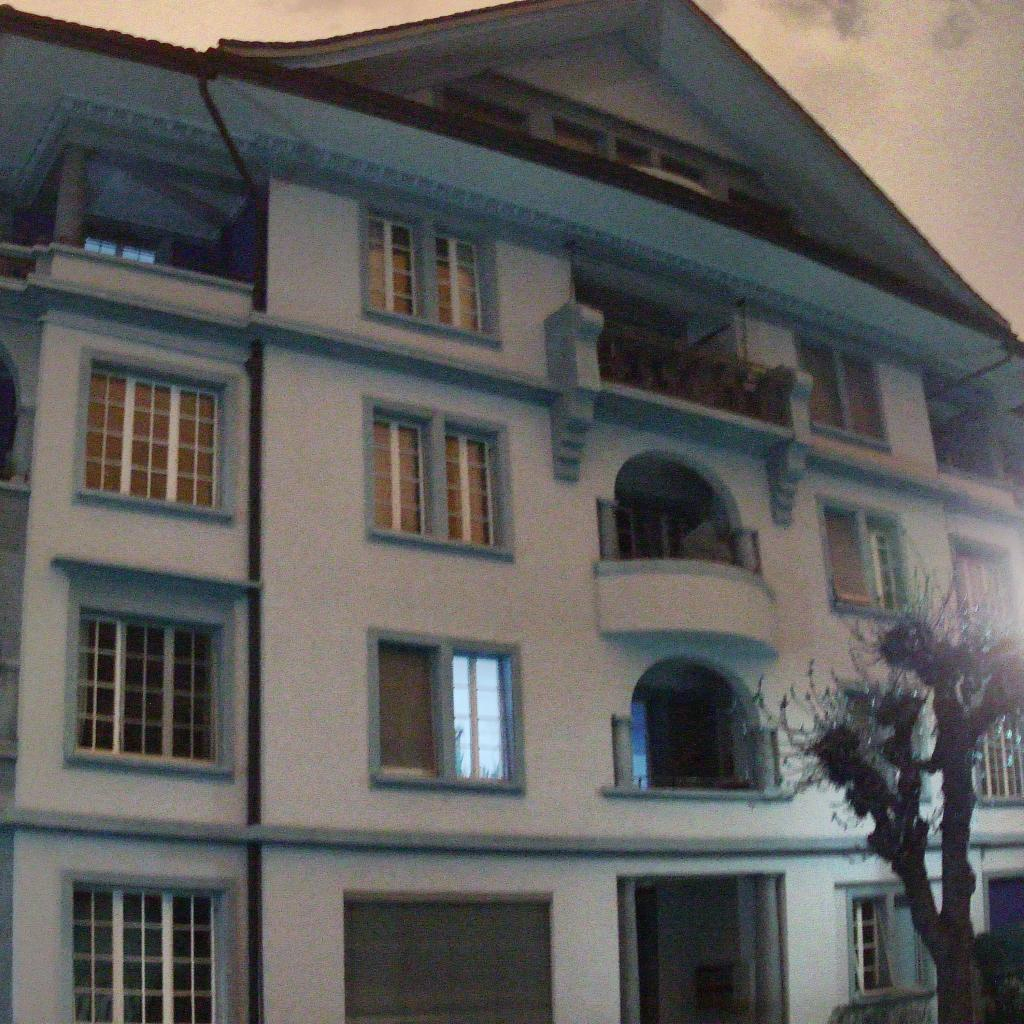balcony-fence: (597, 321, 798, 431), (593, 495, 765, 576), (608, 714, 782, 790)
facade: (0, 0, 1024, 1024)
vegetation: (752, 549, 1024, 1024)
window: (343, 891, 556, 1024), (74, 605, 224, 768), (71, 880, 229, 1024), (83, 356, 227, 512), (377, 638, 516, 783), (371, 402, 505, 550), (367, 202, 487, 338), (794, 332, 893, 452), (823, 500, 907, 612), (920, 372, 1000, 487), (852, 892, 932, 993), (955, 537, 1017, 635), (972, 702, 1024, 803), (81, 232, 158, 265), (982, 873, 1024, 925)
